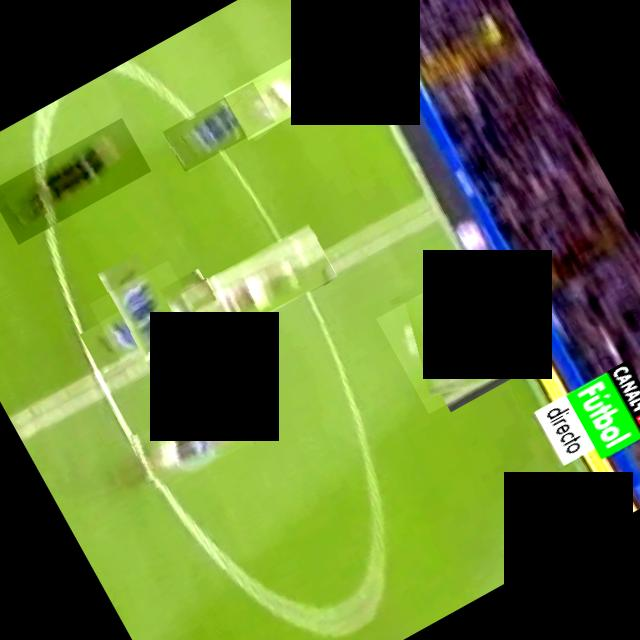referee: (0, 118, 151, 245)
soccer-player: (376, 266, 522, 414), (180, 224, 337, 347), (88, 261, 210, 383), (125, 386, 258, 495), (223, 38, 352, 140), (162, 82, 274, 172)
